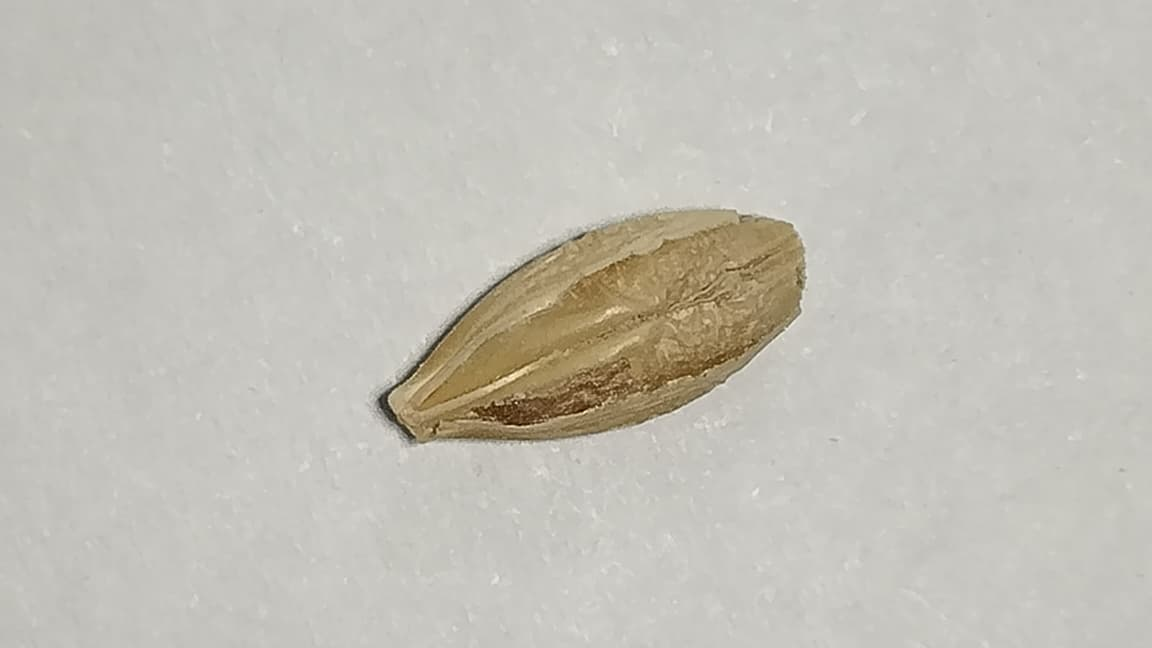damage: (379, 207, 806, 444)
insectdamage: (475, 359, 640, 425), (789, 256, 825, 293)
shriveledseed: (618, 263, 747, 357)
